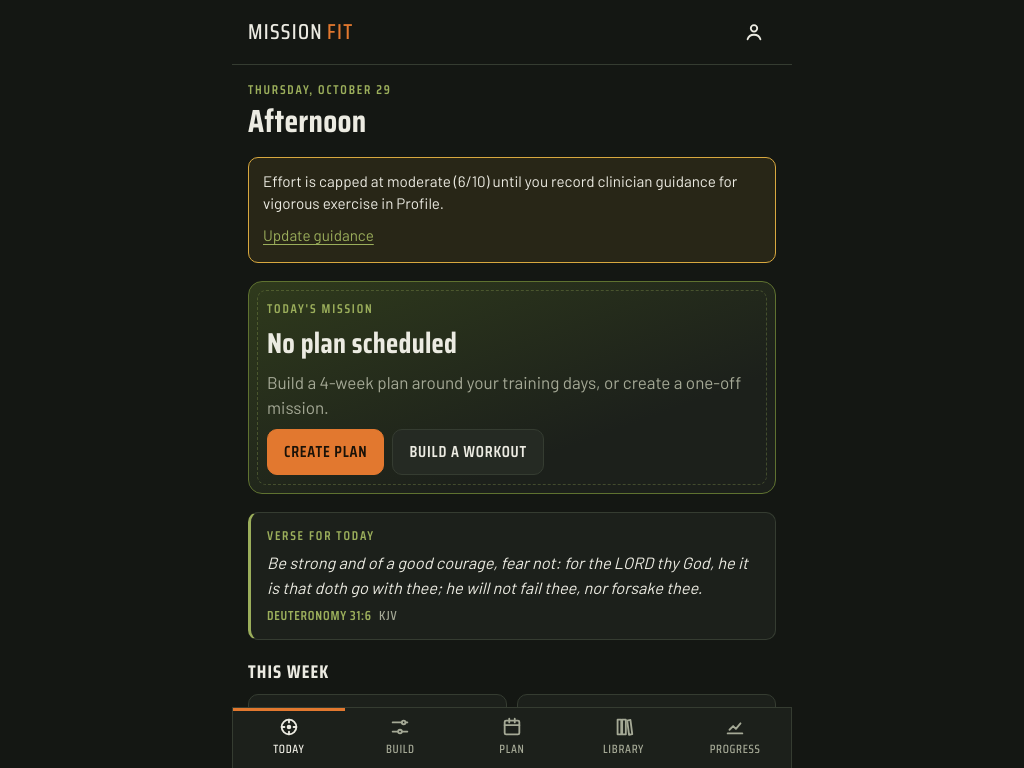
plan, library, progress, profile › library shows push-ups as excluded with reasons
Click the button "Library" at x=624, y=738, box [568, 708, 679, 767]
(page scrolled)
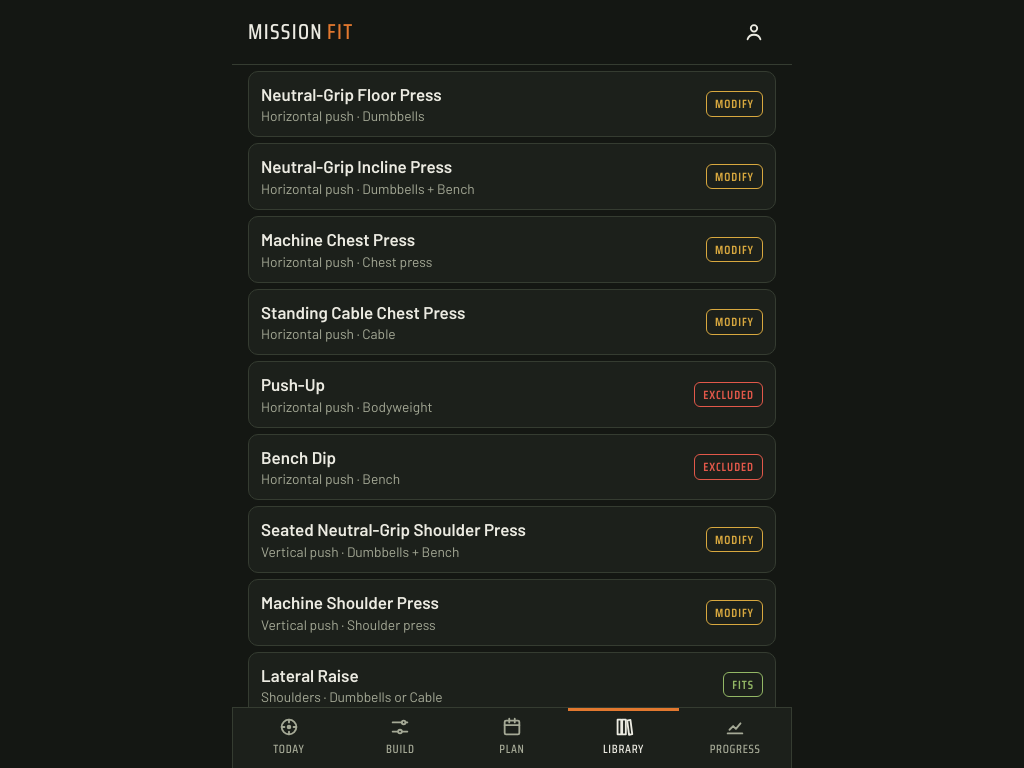
Click the text "Push-Up" at x=293, y=384, box [261, 374, 325, 394]
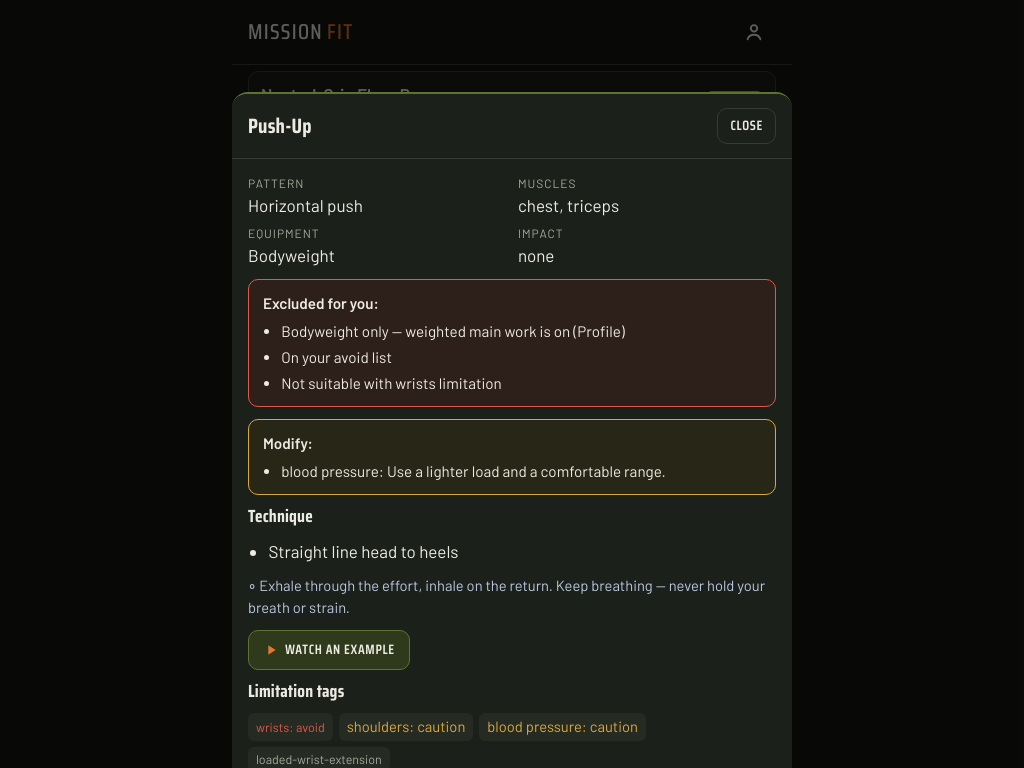
Now the text "Excluded for you:" is shown, box [263, 294, 379, 312]
Now the list item "Not suitable with wrists limitation" is shown, box [281, 374, 502, 392]
